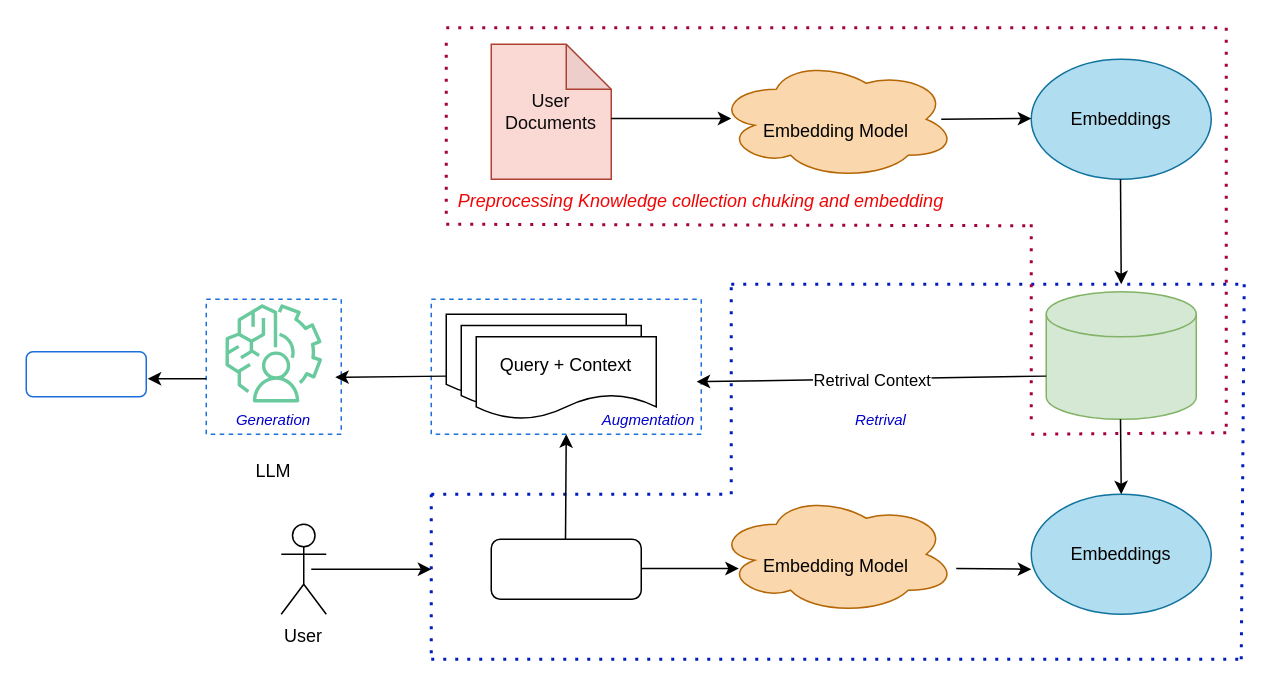
Image size: 1274x687. Some labels were removed from this diagram. Here are the shapes that lost their labels. From the top down, the box of each, then its label:
(25, 350, 146, 397): Response
(1045, 290, 1196, 419): vector DB
(490, 538, 641, 599): Query
